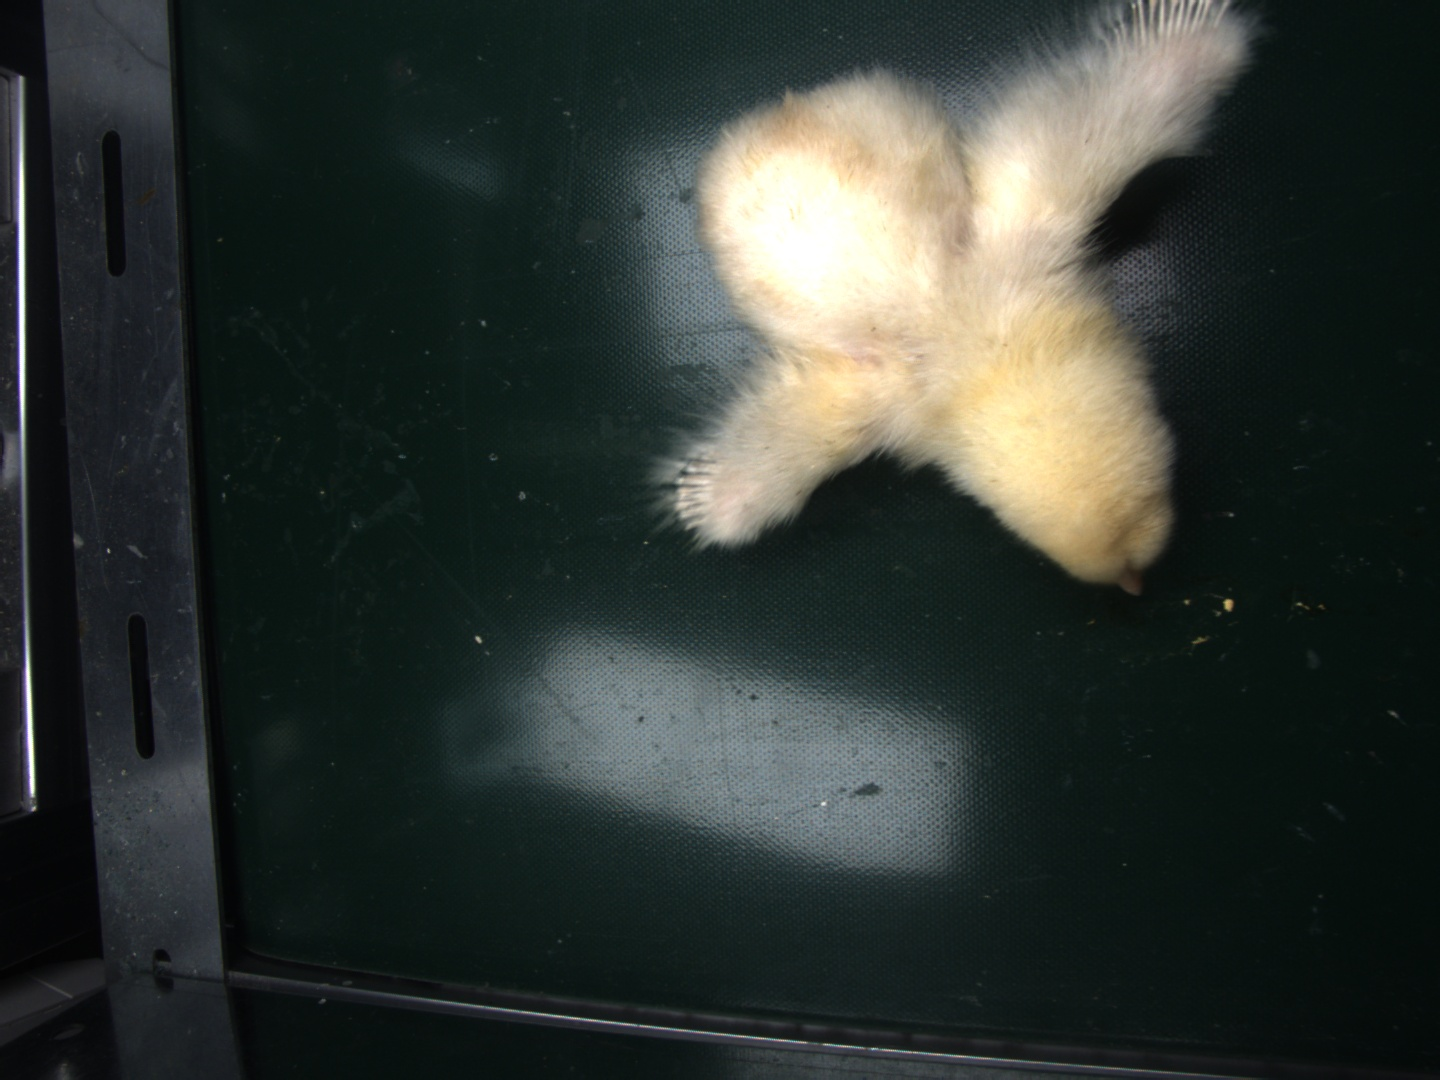male: (1125, 1, 1227, 43)
